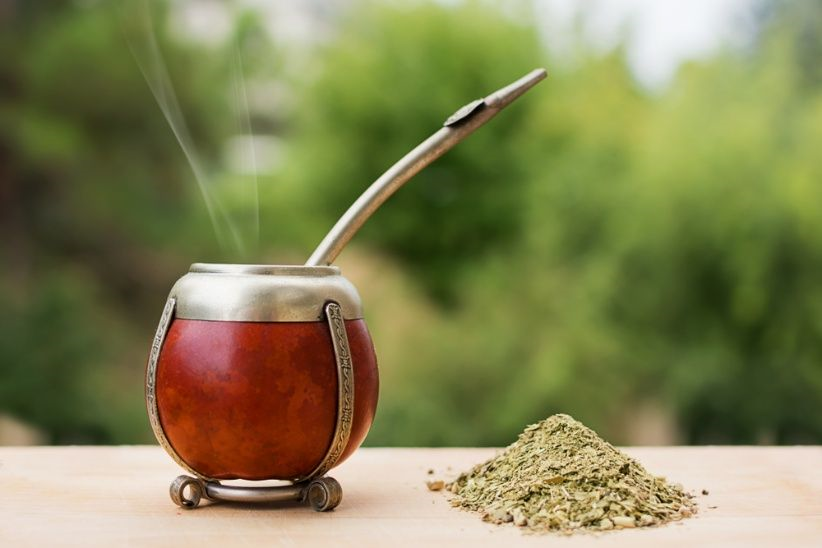calabaza: (151, 241, 383, 520)
mate: (153, 243, 385, 522)
